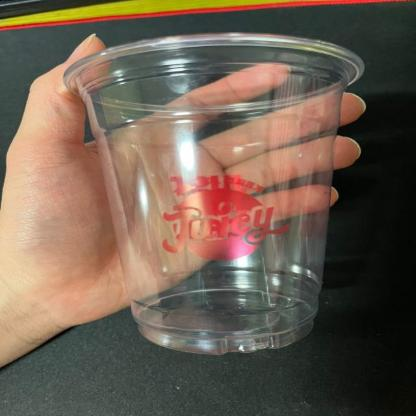Plastic Cup: (61, 31, 370, 356)
